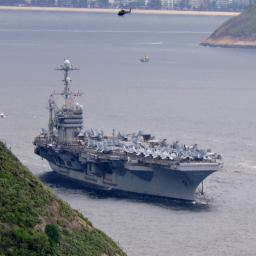Portanaves: (32, 55, 225, 208)
